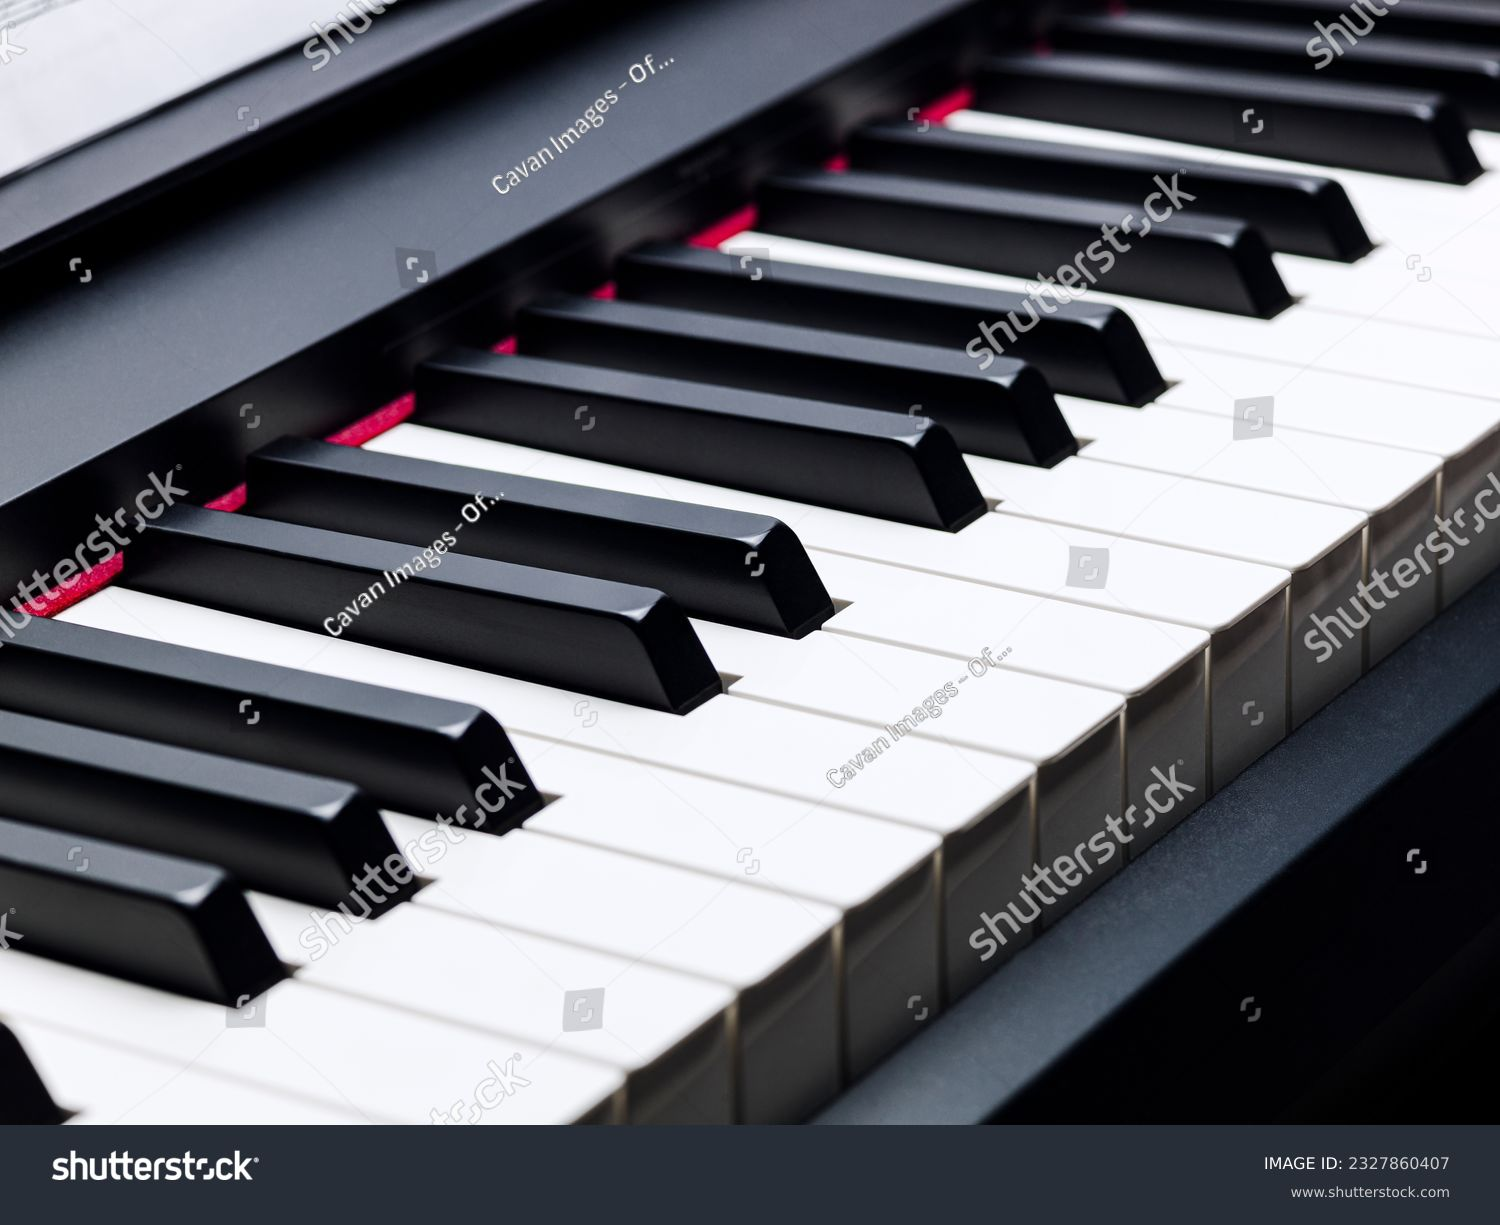Piano: (27, 12, 1493, 1138)
